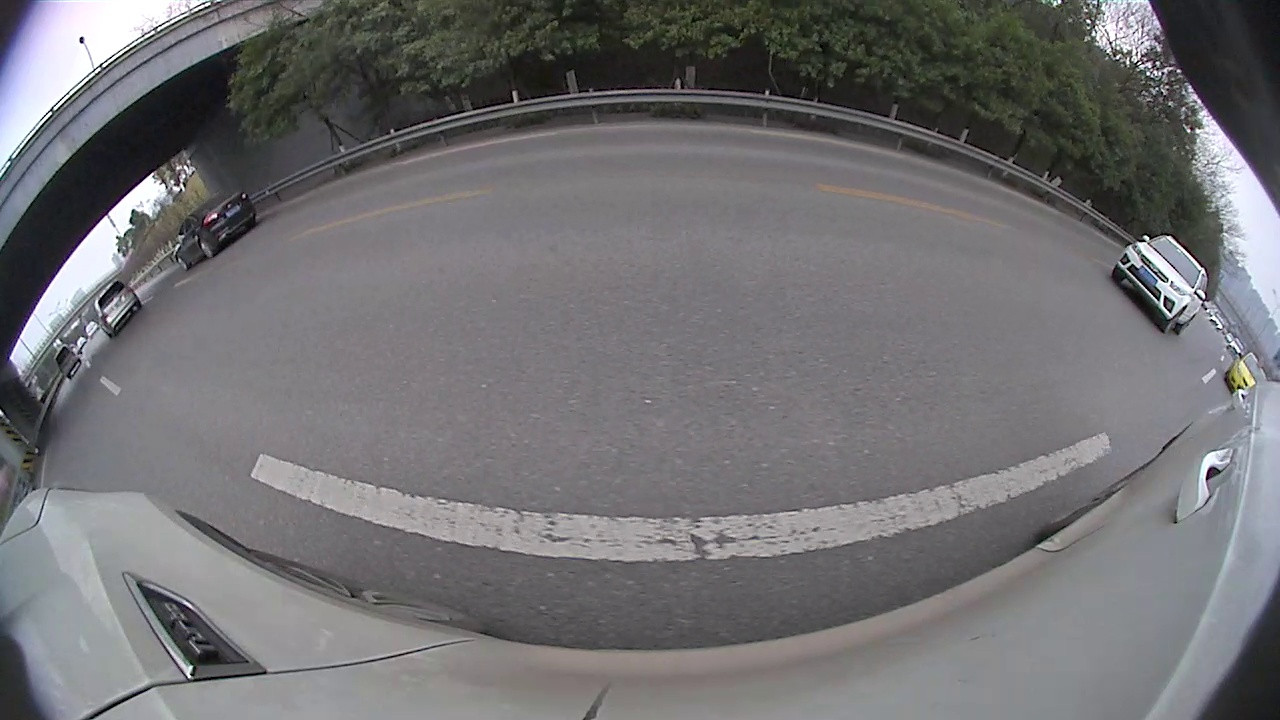car: (201, 144, 499, 311), (587, 107, 820, 262), (1108, 283, 1278, 443), (918, 186, 1021, 246), (530, 159, 588, 199), (820, 170, 868, 205)
front: (1139, 337, 1223, 432), (476, 192, 501, 233), (919, 204, 930, 226)
rear: (349, 224, 405, 292), (965, 215, 983, 240)
